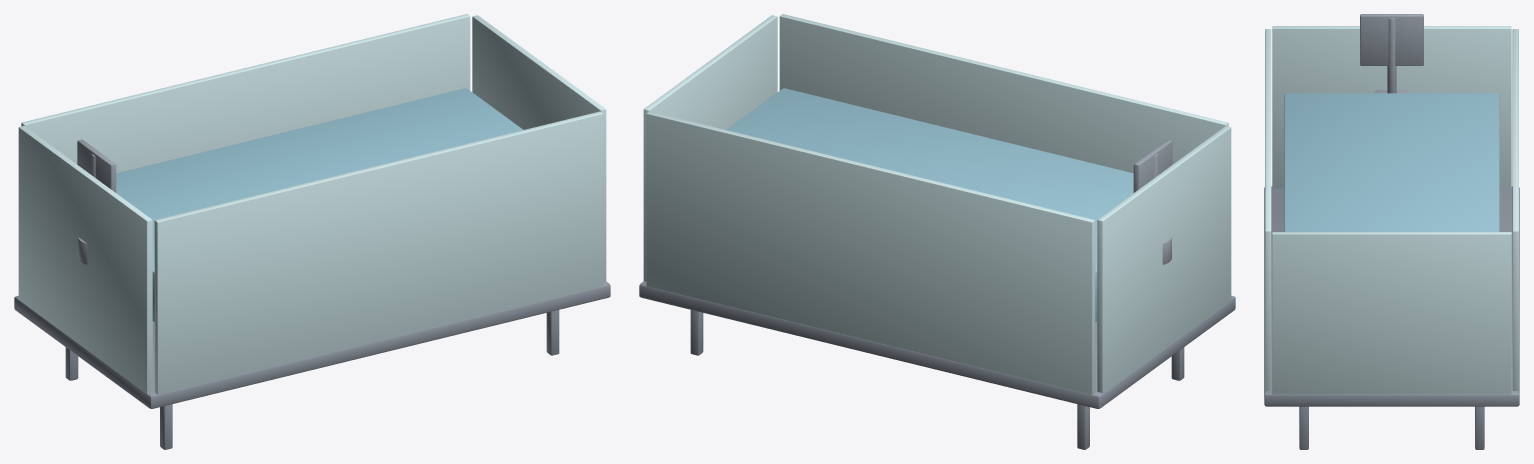
The model's file is wave_apparatus.glb.
3 views of the same model, side by side, from view 1: azimuth 30°, elevation 25°; view 2: azimuth 150°, elevation 25°; view 3: azimuth 270°, elevation 25° (orthographic). The views are drawn at different scales.
Parts seen in each view (by area): view 1: Tank_Glass_Y_F, Tank_Glass_Y_B, Tank_Glass_X_L, Tank_Water, Tank_Glass_X_R, Tank_Base, Oscillator_Paddle, Stand_Leg_2.6_-1.1; view 2: Tank_Glass_Y_B, Tank_Glass_Y_F, Tank_Glass_X_L, Tank_Water, Tank_Glass_X_R, Tank_Base, Oscillator_Paddle, Stand_Leg_2.6_1.1; view 3: Tank_Glass_X_R, Tank_Water, Tank_Glass_X_L, Tank_Base, Oscillator_Paddle, Tank_Glass_Y_B, Tank_Glass_Y_F, Oscillator_Stem, Stand_Leg_2.6_1.1, Stand_Leg_2.6_-1.1.
Boxes of the visible parts, x1,y1,x2,y2 form: Tank_Glass_Y_F: (154, 111, 603, 394); Tank_Glass_Y_B: (21, 14, 470, 173); Tank_Glass_X_L: (18, 126, 152, 393); Tank_Water: (116, 88, 523, 321); Tank_Glass_X_R: (472, 15, 606, 281); Tank_Base: (14, 281, 610, 408); Oscillator_Paddle: (77, 139, 116, 192); Stand_Leg_2.6_-1.1: (546, 310, 559, 355); Tank_Glass_Y_B: (646, 111, 1095, 394); Tank_Glass_Y_F: (779, 14, 1228, 173); Tank_Glass_X_L: (1097, 126, 1231, 393); Tank_Water: (726, 88, 1133, 321); Tank_Glass_X_R: (643, 15, 777, 281); Tank_Base: (639, 281, 1235, 408); Oscillator_Paddle: (1133, 139, 1172, 192); Stand_Leg_2.6_1.1: (690, 310, 703, 355); Tank_Glass_X_R: (1272, 232, 1511, 394); Tank_Water: (1284, 93, 1499, 231); Tank_Glass_X_L: (1272, 26, 1511, 188); Tank_Base: (1264, 186, 1519, 406); Oscillator_Paddle: (1360, 14, 1423, 65); Tank_Glass_Y_B: (1512, 29, 1518, 391); Tank_Glass_Y_F: (1265, 29, 1271, 391); Oscillator_Stem: (1387, 18, 1396, 93); Stand_Leg_2.6_1.1: (1475, 406, 1484, 449); Stand_Leg_2.6_-1.1: (1299, 406, 1308, 449).
Size of the model in its own units: 6.22 by 3.43 by 3.2.
